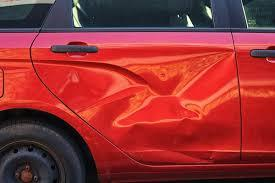dent: (82, 40, 241, 133)
